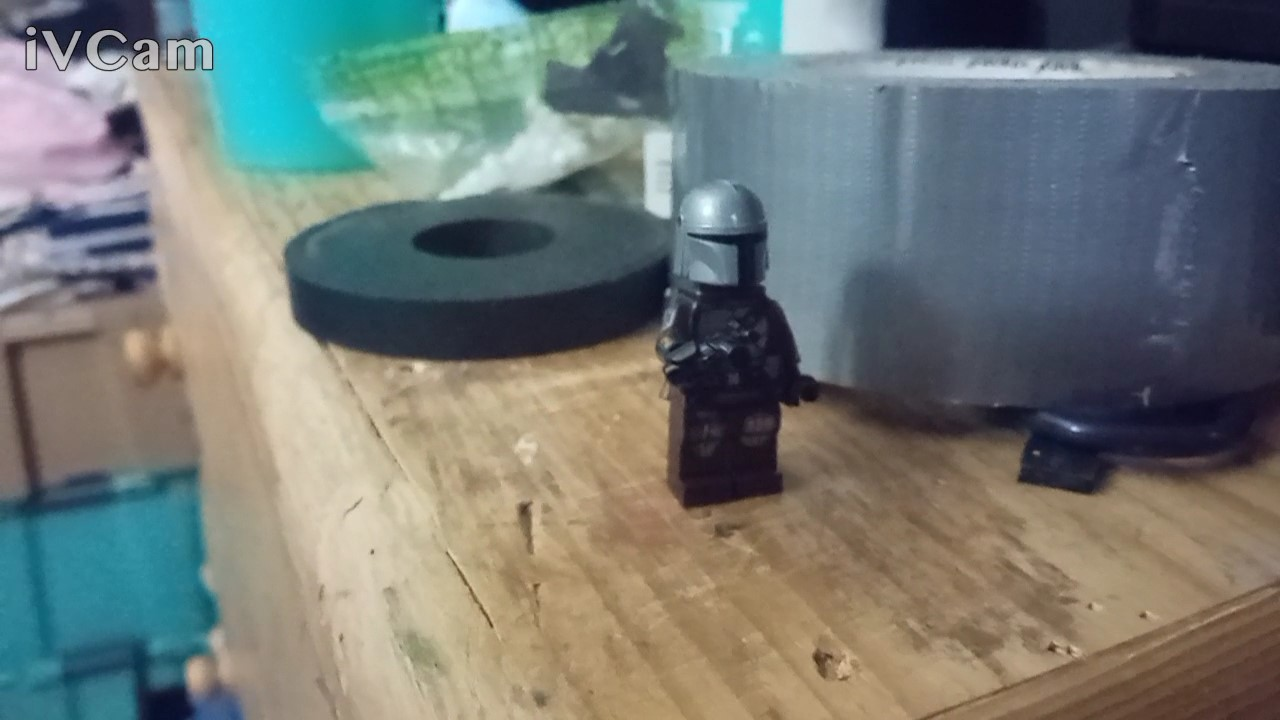mandalorian: (643, 162, 851, 525)
